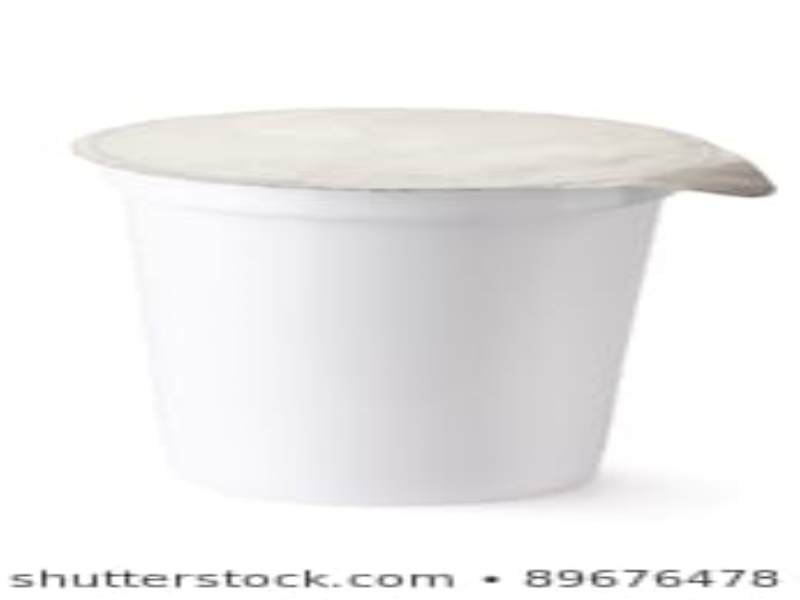yogurt-cup: (67, 101, 767, 506)
